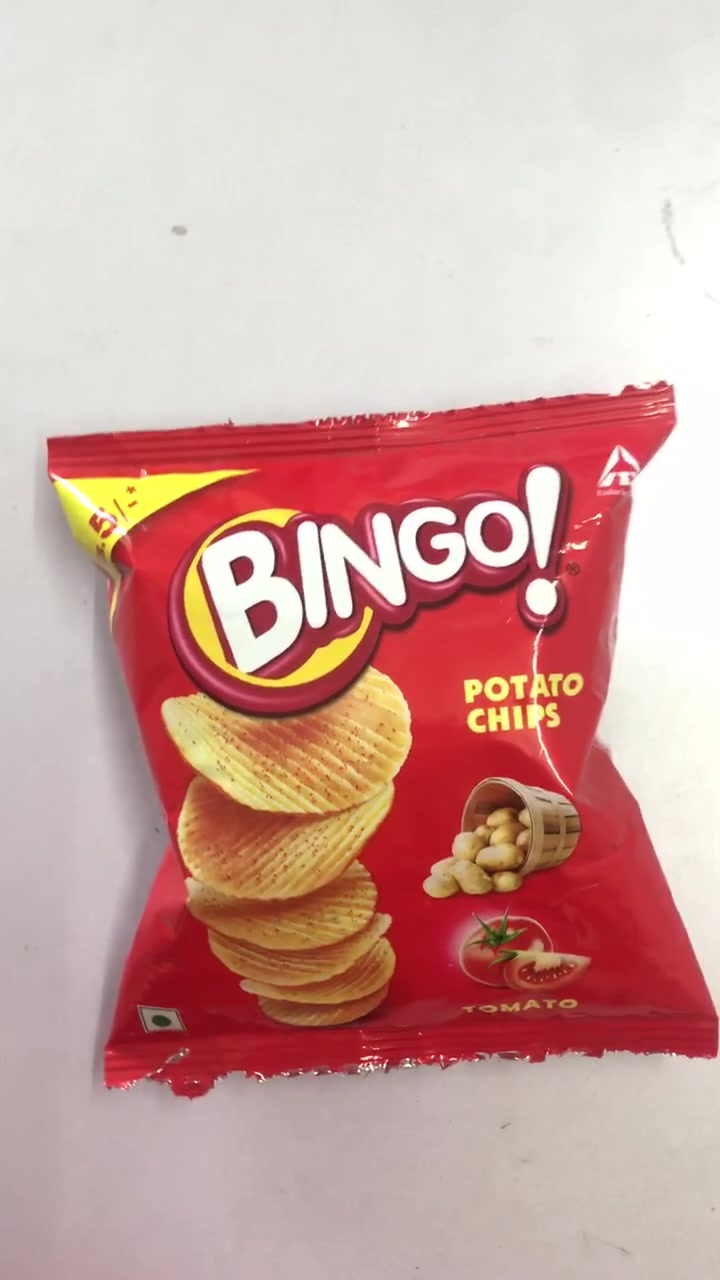Bingo: (56, 430, 710, 1059)
